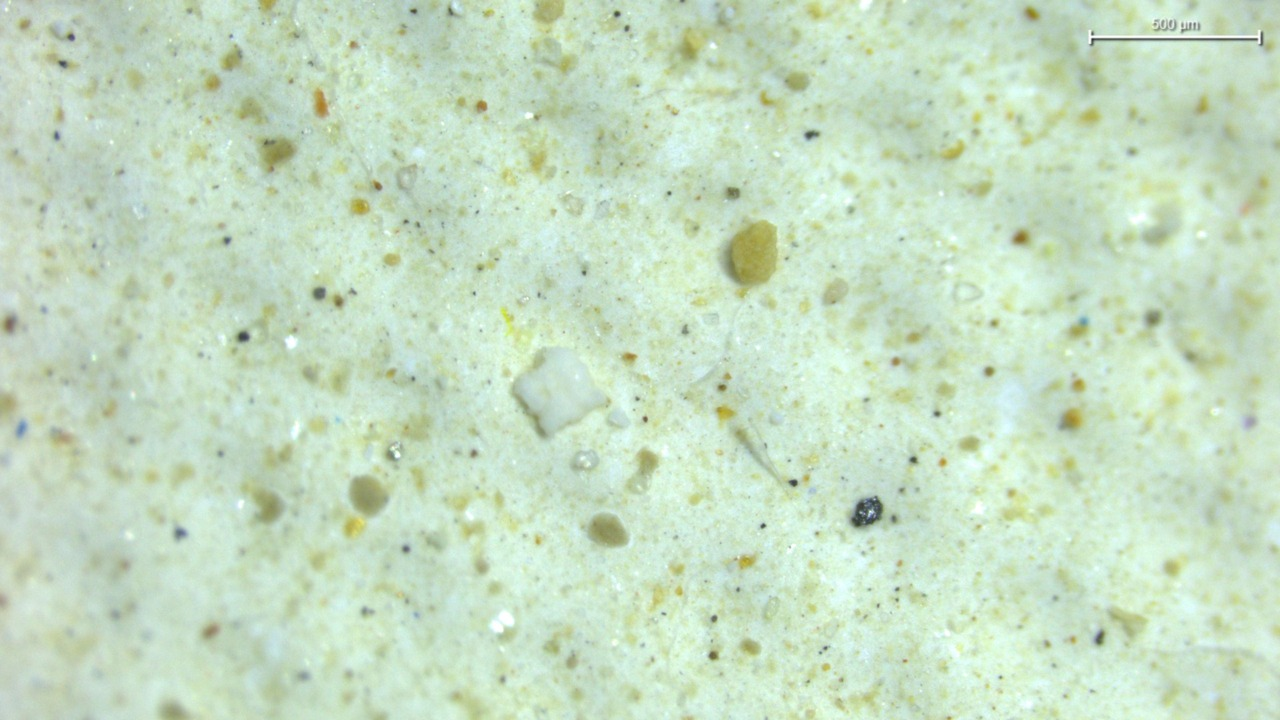microplastic_fragment: (513, 347, 607, 436), (729, 220, 778, 285)
